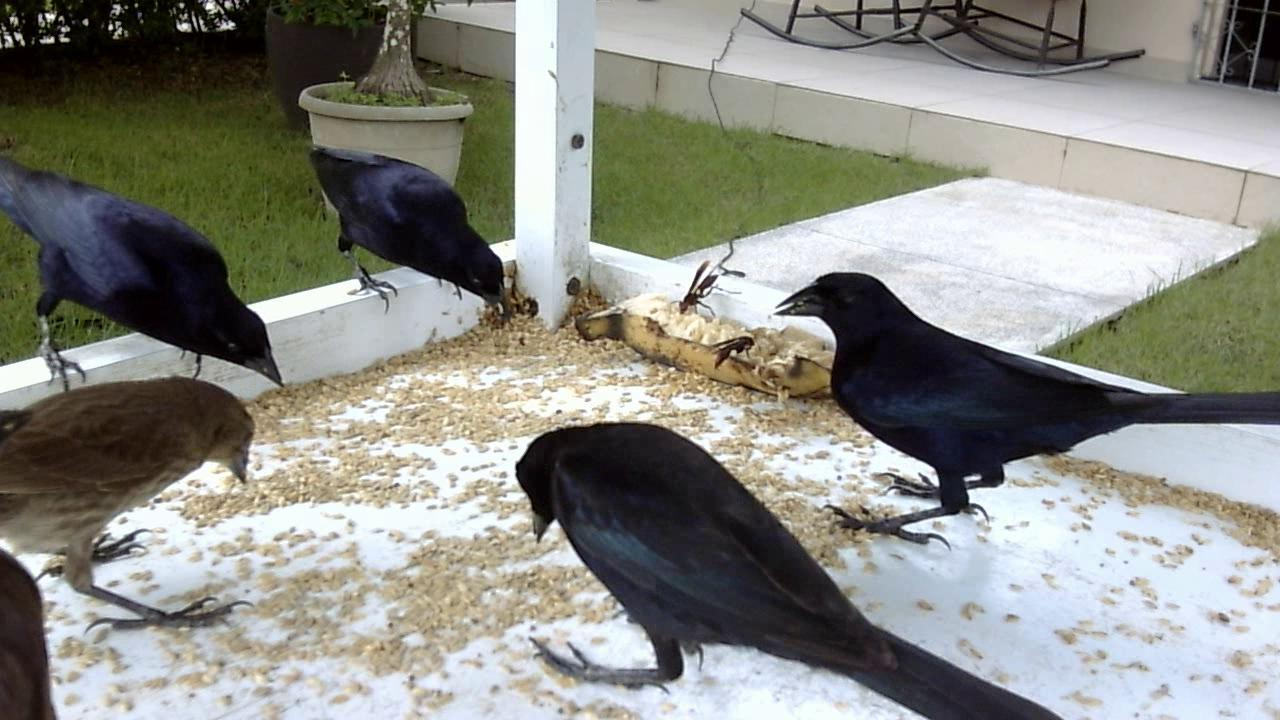chupim: (742, 233, 1262, 570), (507, 408, 1065, 715), (1, 349, 279, 647), (1, 146, 293, 412), (296, 135, 510, 324)
